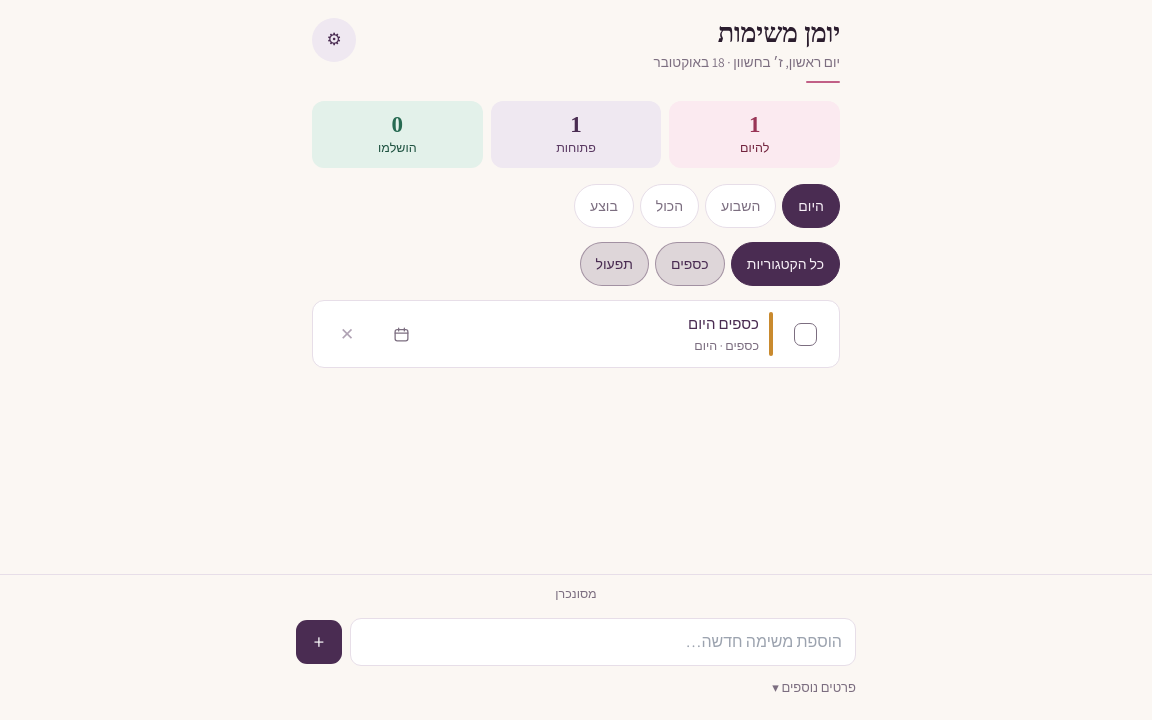
Test case: MainScreen › shows the category empty state when the selected category has no tasks
This screenshot has width=1152, height=720.
Check: the text "כספים היום" is shown, box [688,313,759,335]
Click the button "תפעול".
click(614, 264)  # box [580,242,649,286]
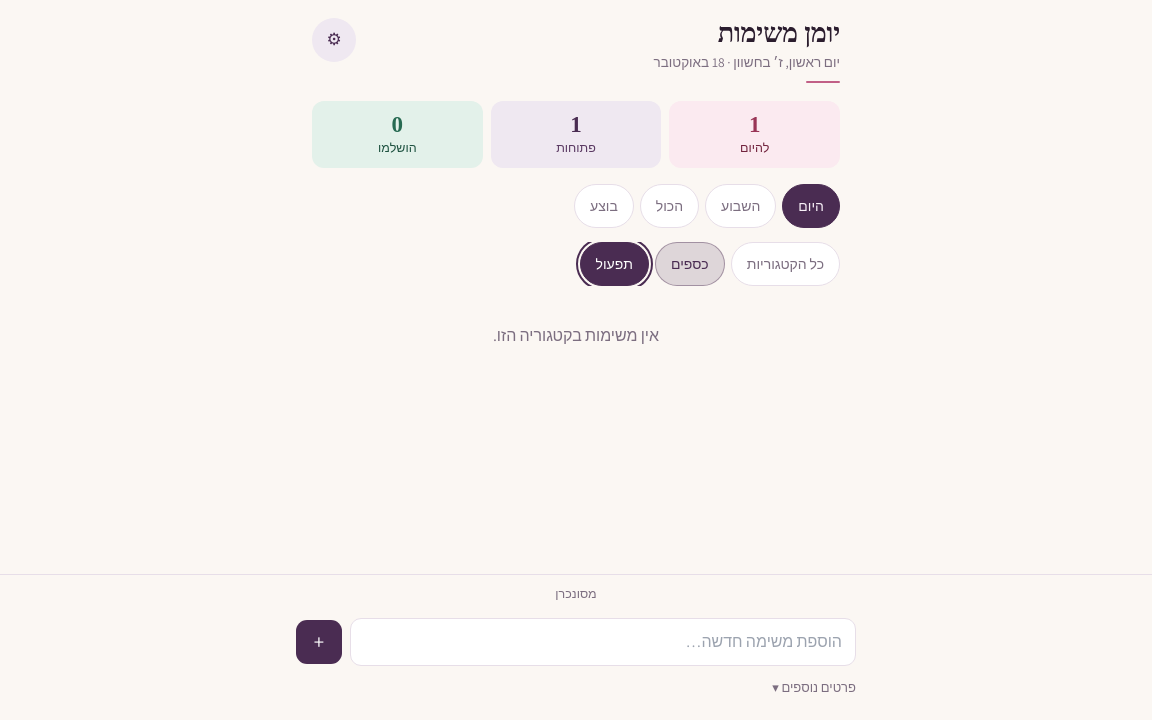
Check: the text "אין משימות בקטגוריה הזו." is shown, box [493,325,659,346]
